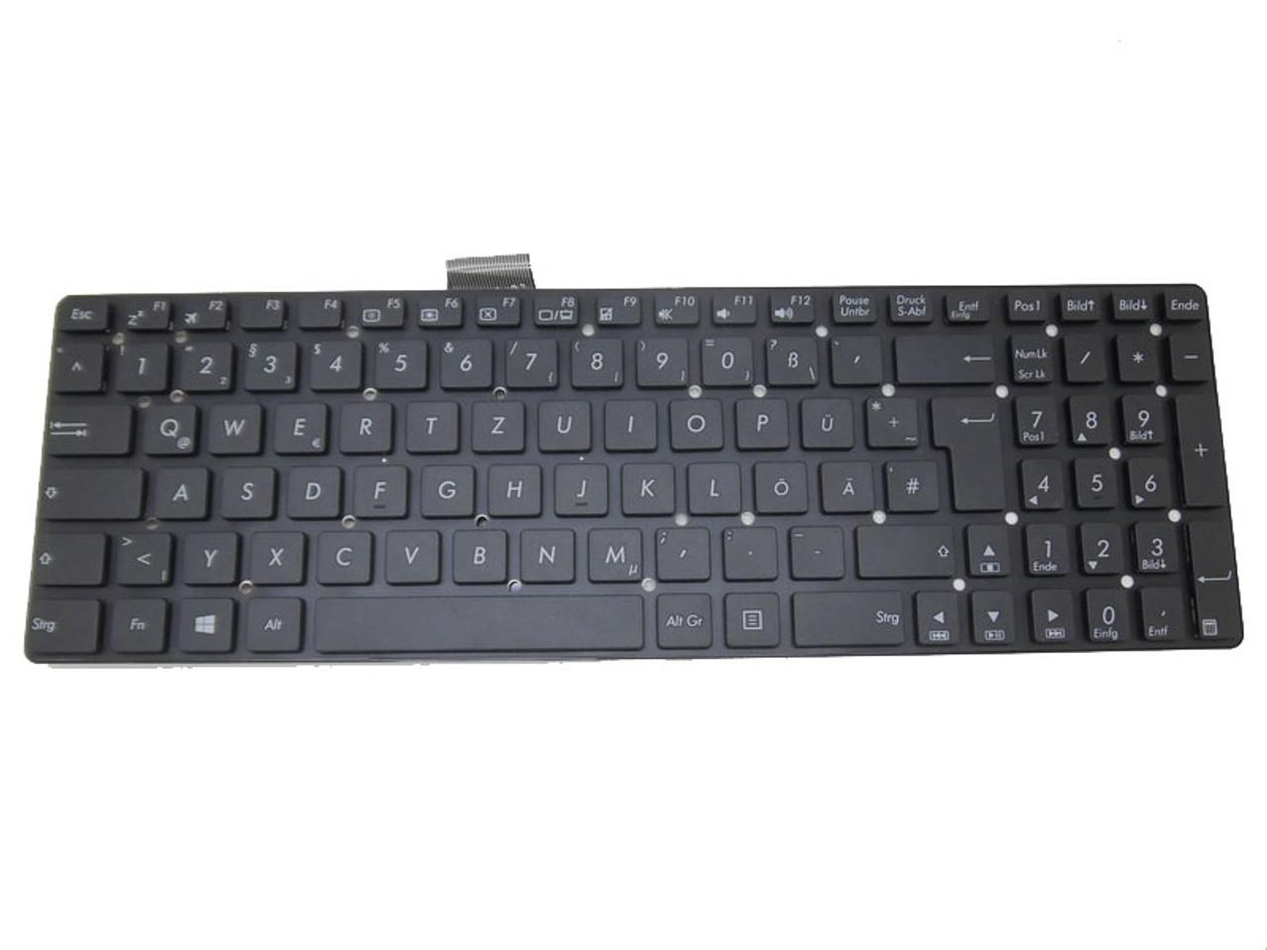0: (699, 332, 752, 384)
1: (111, 335, 167, 392)
2: (174, 338, 233, 391)
3: (240, 336, 297, 390)
4: (306, 335, 360, 389)
5: (371, 336, 428, 388)
6: (436, 334, 492, 388)
7: (501, 334, 558, 388)
8: (567, 334, 624, 388)
9: (633, 333, 688, 386)
a: (149, 464, 208, 518)
accent: (828, 332, 881, 384)
ae: (818, 456, 873, 513)
alt-left: (244, 593, 303, 651)
altgr-right: (654, 590, 713, 647)
b: (448, 525, 508, 582)
c: (313, 526, 374, 584)
caret: (49, 340, 103, 391)
comma: (653, 523, 711, 580)
d: (284, 461, 341, 518)
del: (893, 332, 994, 383)
e: (270, 399, 328, 452)
enter: (929, 393, 1004, 512)
f: (350, 460, 407, 517)
g: (417, 459, 474, 517)
h: (485, 459, 541, 516)
hash: (882, 456, 939, 511)
i: (601, 395, 657, 449)
j: (551, 457, 609, 515)
k: (619, 458, 675, 514)
keyboard: (18, 281, 1249, 673)
l: (685, 457, 739, 514)
less: (112, 528, 171, 585)
m: (584, 523, 643, 582)
minus: (786, 522, 844, 578)
n: (517, 523, 576, 582)
o: (666, 395, 723, 449)
oe: (751, 457, 808, 513)
p: (733, 395, 788, 448)
plus: (862, 393, 918, 447)
point: (721, 523, 777, 579)
q: (138, 399, 197, 454)
r: (337, 398, 392, 452)
s: (217, 463, 275, 519)
shift-left: (31, 529, 104, 585)
shift-lock: (39, 462, 143, 519)
shift-right: (854, 520, 954, 577)
space: (314, 592, 644, 651)
ss: (763, 333, 819, 385)
strg-left: (23, 596, 98, 655)
strg-right: (791, 587, 909, 646)
t: (403, 397, 458, 451)
tab: (46, 400, 131, 455)
u: (535, 396, 592, 451)
ue: (798, 394, 853, 448)
v: (382, 524, 440, 583)
w: (204, 398, 262, 454)
x: (246, 526, 305, 583)
y: (179, 528, 237, 584)
z: (468, 397, 525, 451)
